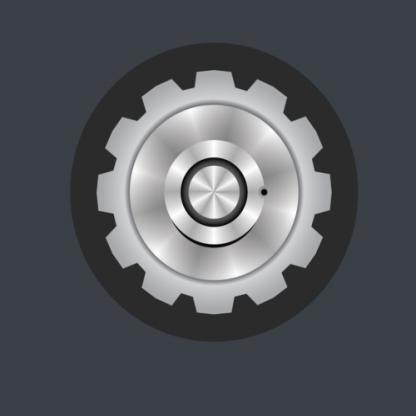FOD: (89, 63, 336, 320)
